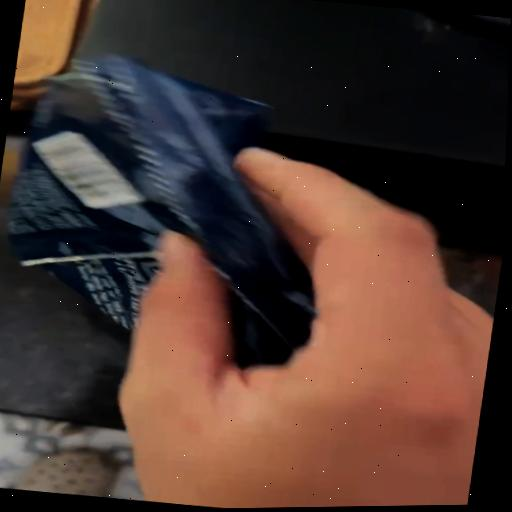cafe_hat: (8, 57, 312, 364)
